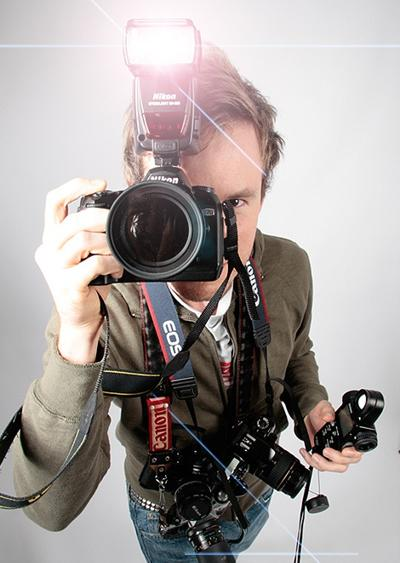person: (13, 48, 364, 563)
